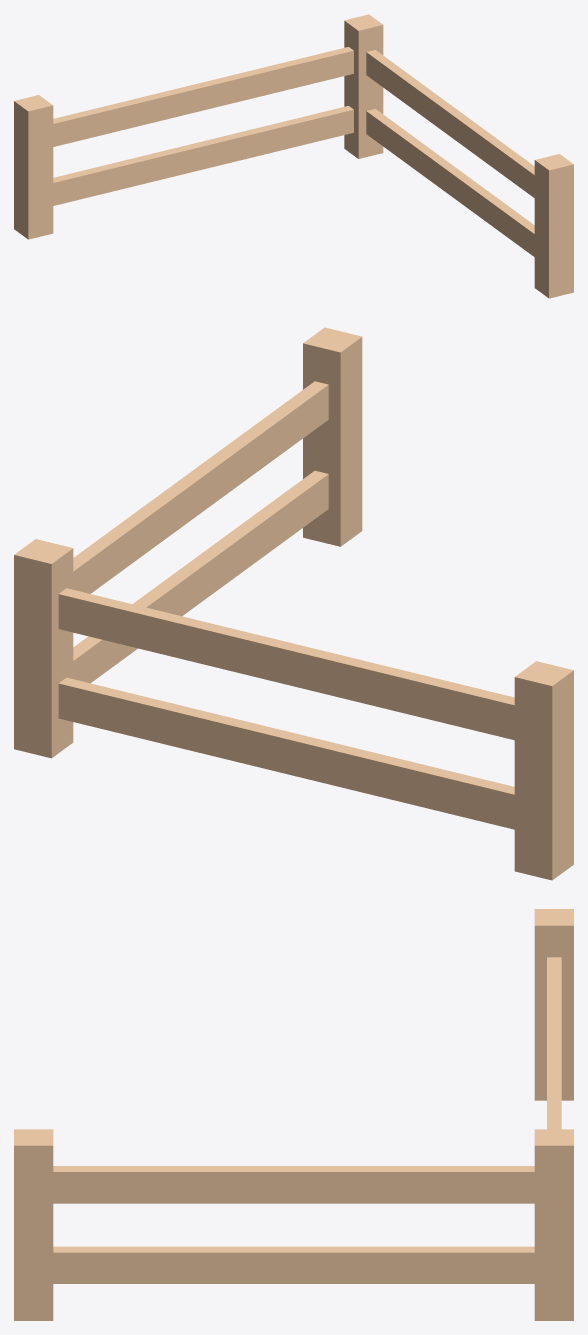
File: fence_corner.glb
The picture shows the model from 3 angles, top to bottom: view 1: azimuth 30°, elevation 25°; view 2: azimuth 150°, elevation 25°; view 3: azimuth 270°, elevation 25°; orthographic projection. The views are drawn at different scales.
Visible parts, largest first — view 1: fence_corner; view 2: fence_corner; view 3: fence_corner.
Boxes of the visible parts, x1=… form: fence_corner: x1=14, y1=14, x2=573, y2=298; fence_corner: x1=14, y1=327, x2=573, y2=880; fence_corner: x1=14, y1=909, x2=573, y2=1320.
Bounding box in the file's own units: 1 × 0.345 × 1.
